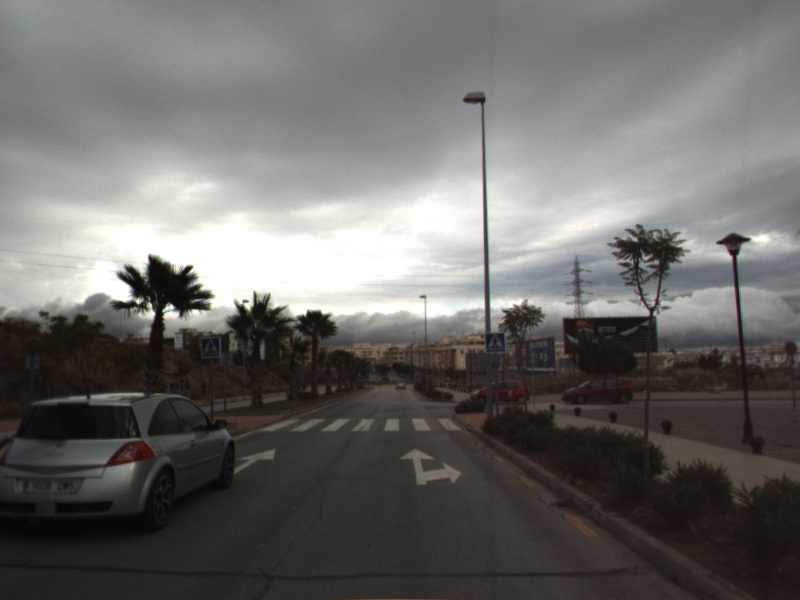STRAIGHT: (233, 446, 277, 475)
STRAIGHT_RIGHT: (397, 446, 464, 487)
